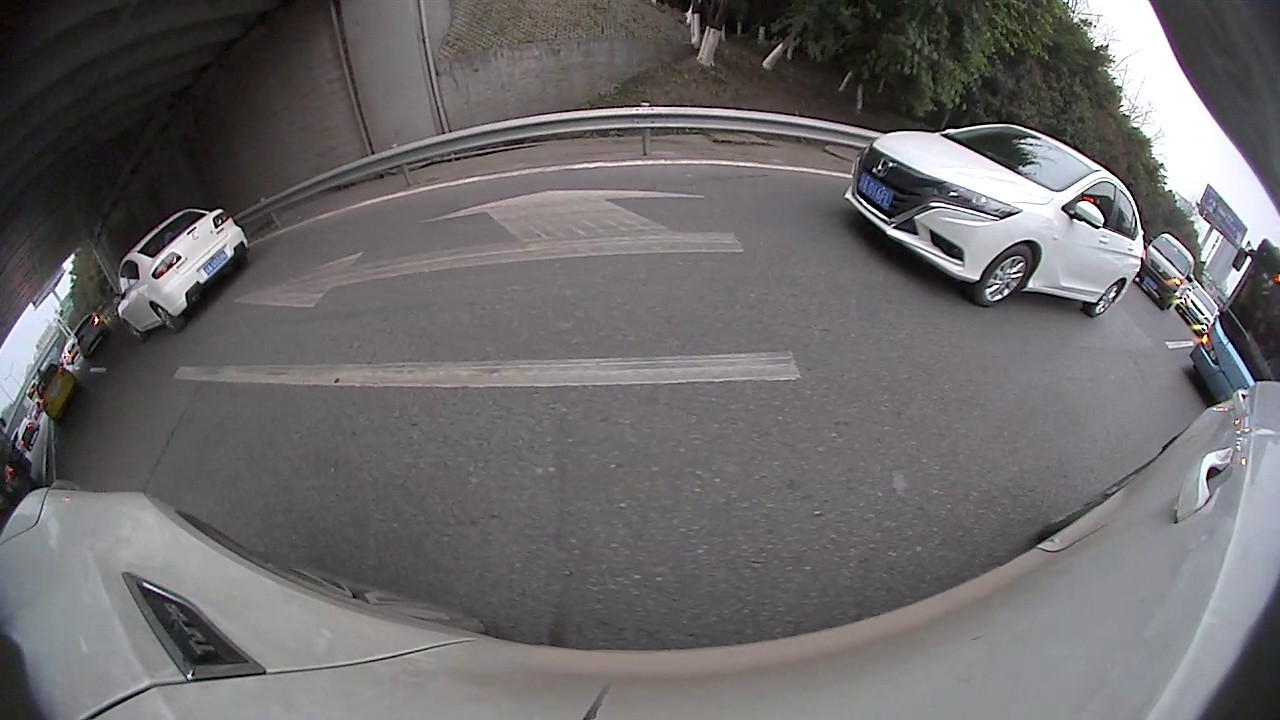bus: (1187, 234, 1279, 412)
car: (840, 120, 1148, 320), (114, 203, 254, 345), (1141, 230, 1194, 313), (31, 361, 81, 423)
front: (975, 236, 1035, 311)
rear: (1084, 278, 1124, 320), (152, 302, 183, 335)
